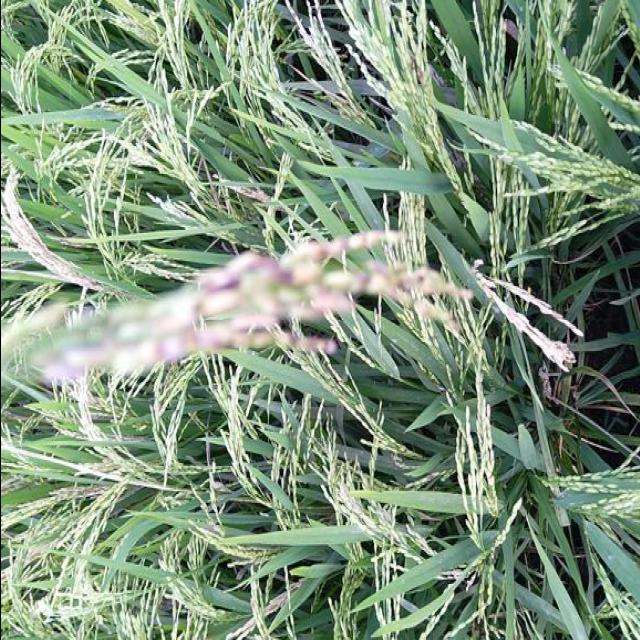Panicle Blight: (72, 230, 464, 373)
